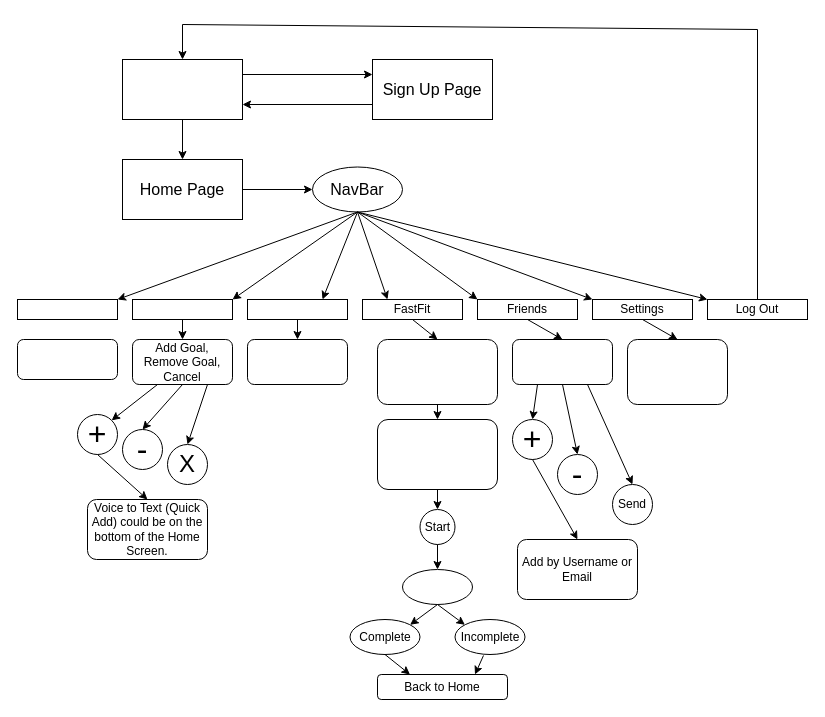
Image size: 825x717. Some labels were removed from this diagram. The shapes that lost their labels are listed below. From the top down, each one's centre as x and y in pixels, then its label:
[182,89]: Login Page
[67,309]: Log Workout
[182,309]: Goals
[297,309]: Progress
[67,359]: Dropdown menu
[437,371]: Time until next play: (timer), Leaderboard, Target Body Area
[562,361]: Add Friend, Remove Friend, Message Friend
[677,371]: User Profile, Preferences, Updates, Delete Account
[437,454]: Upper Body, Lower Body, Arms, Legs, Back, Core, Full-Body, Cardio
[437,586]: Pause/Play
